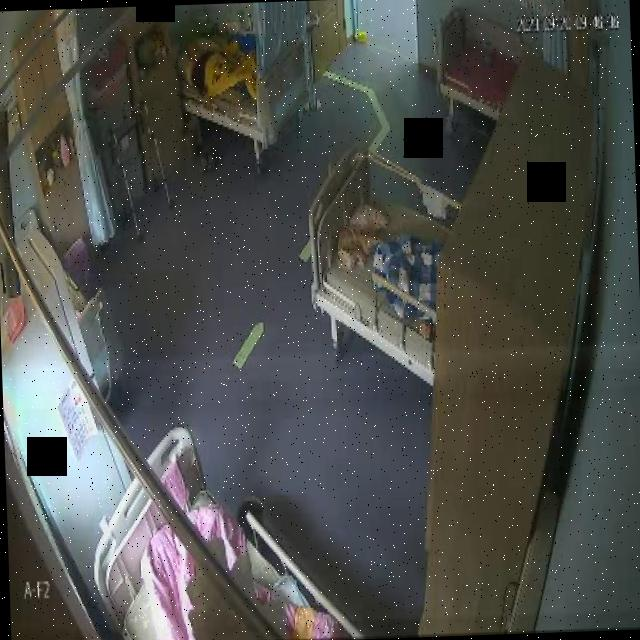bed: (89, 422, 328, 640), (305, 141, 446, 388), (176, 18, 308, 148), (423, 4, 517, 112)
walker: (106, 96, 178, 245)
